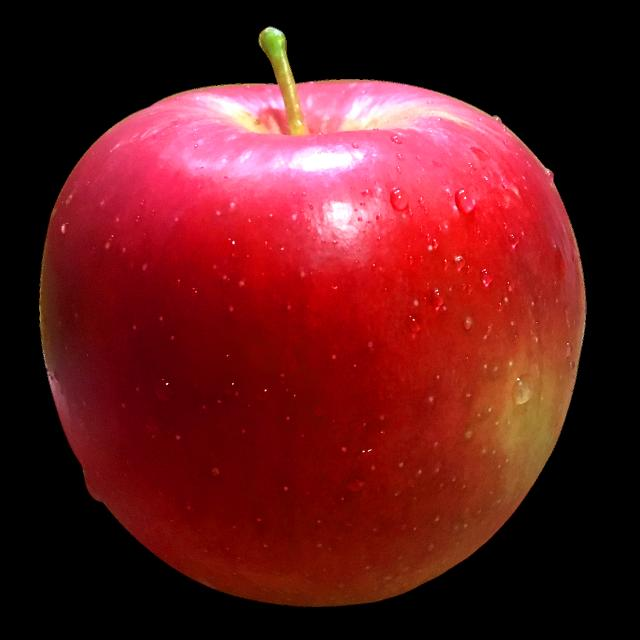Apple: (32, 30, 595, 605)
